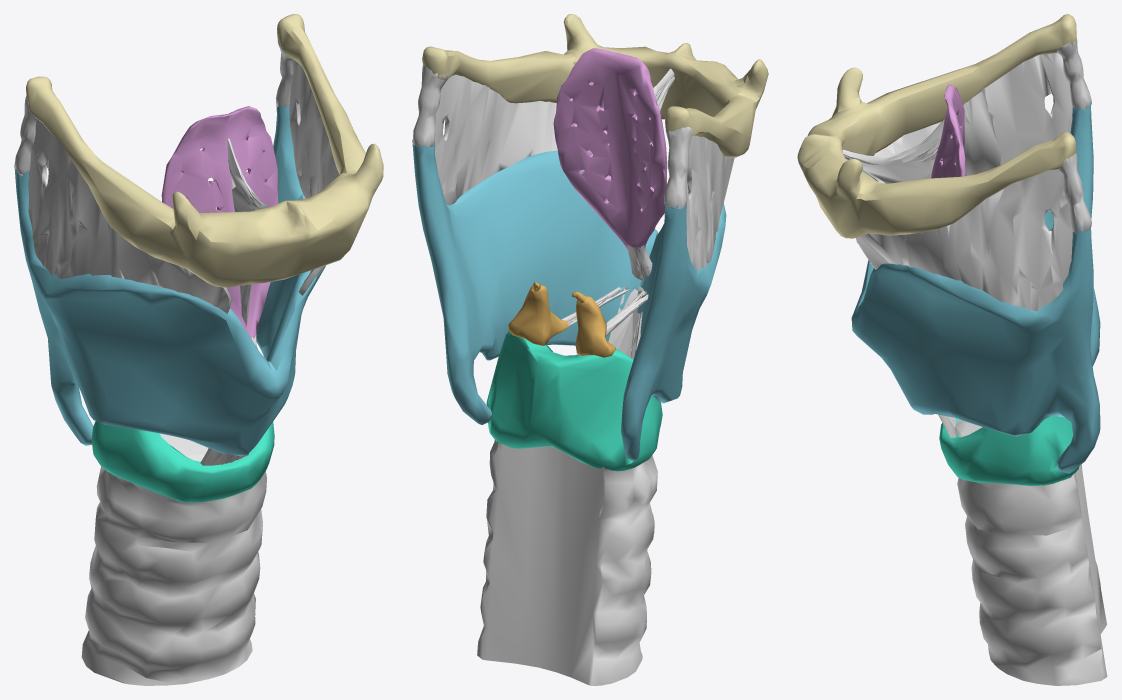
File: laryux.fbx
The picture shows the model from 3 angles, left to right: view 1: azimuth 30°, elevation 25°; view 2: azimuth 150°, elevation 25°; view 3: azimuth 270°, elevation 25°; orthographic projection. The views are drawn at different scales.
Visible parts, largest first — view 1: laryux; view 2: laryux; view 3: laryux.
Boxes of the visible parts, x1,y1,x2,y2 form: laryux: (14,14,383,685); laryux: (412,14,768,685); laryux: (797,14,1107,685).
Bounding box in the file's own units: 38.62 × 78.53 × 38.36.
